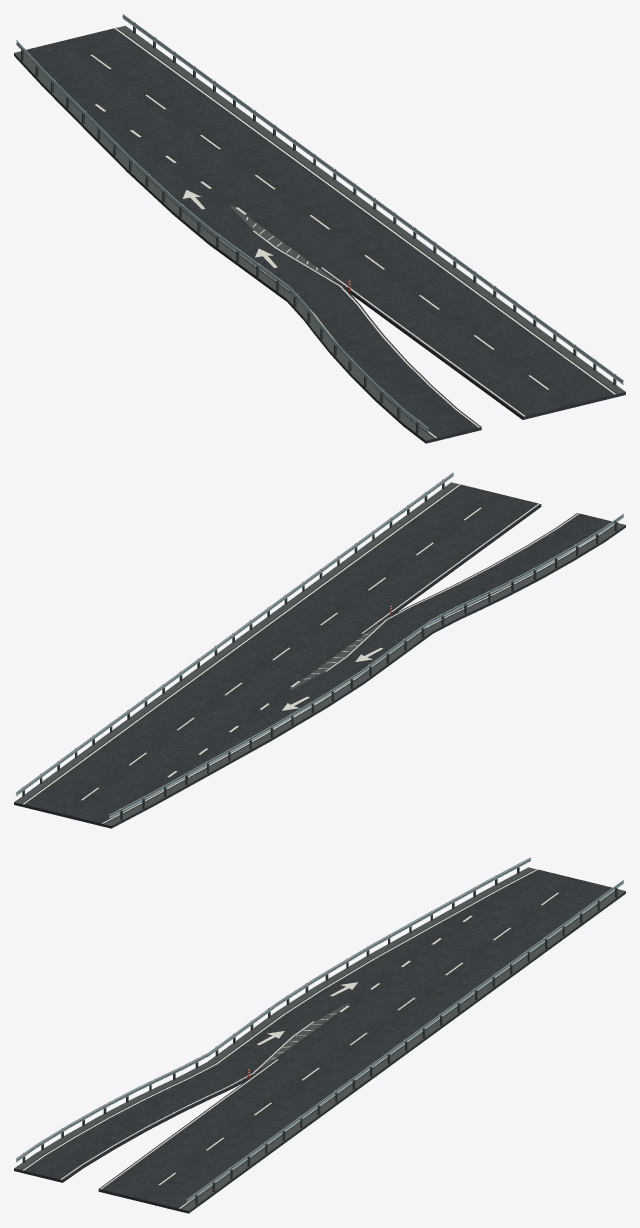
3 views of the same model, one above another, from view 1: azimuth 30°, elevation 25°; view 2: azimuth 150°, elevation 25°; view 3: azimuth 330°, elevation 25° (orthographic). The views are drawn at different scales.
Visible parts, largest first — view 1: Road Deck, Maintenance Shoulders, Expressway W-Beam, Road Markings, Gore Surfacing; view 2: Road Deck, Maintenance Shoulders, Expressway W-Beam, Road Markings, Gore Surfacing; view 3: Road Deck, Maintenance Shoulders, Expressway W-Beam, Road Markings, Gore Surfacing.
Boxes of the visible parts, box(x1,y1,x2,y2) form: Road Deck: box(26, 27, 617, 441); Maintenance Shoulders: box(14, 25, 625, 443); Expressway W-Beam: box(16, 14, 623, 433); Road Markings: box(90, 28, 615, 437); Gore Surfacing: box(230, 205, 333, 280); Road Deck: box(21, 484, 618, 826); Maintenance Shoulders: box(14, 482, 625, 828); Expressway W-Beam: box(16, 472, 623, 820); Road Markings: box(23, 484, 614, 823); Gore Surfacing: box(290, 624, 379, 689); Road Deck: box(21, 869, 618, 1211); Maintenance Shoulders: box(14, 867, 625, 1213); Expressway W-Beam: box(16, 857, 623, 1204); Road Markings: box(23, 869, 614, 1208); Gore Surfacing: box(260, 1003, 349, 1068).
Bounding box in the file's own units: 14.77 × 1.06 × 64.
Materials: 9 (1 with a texture image).
